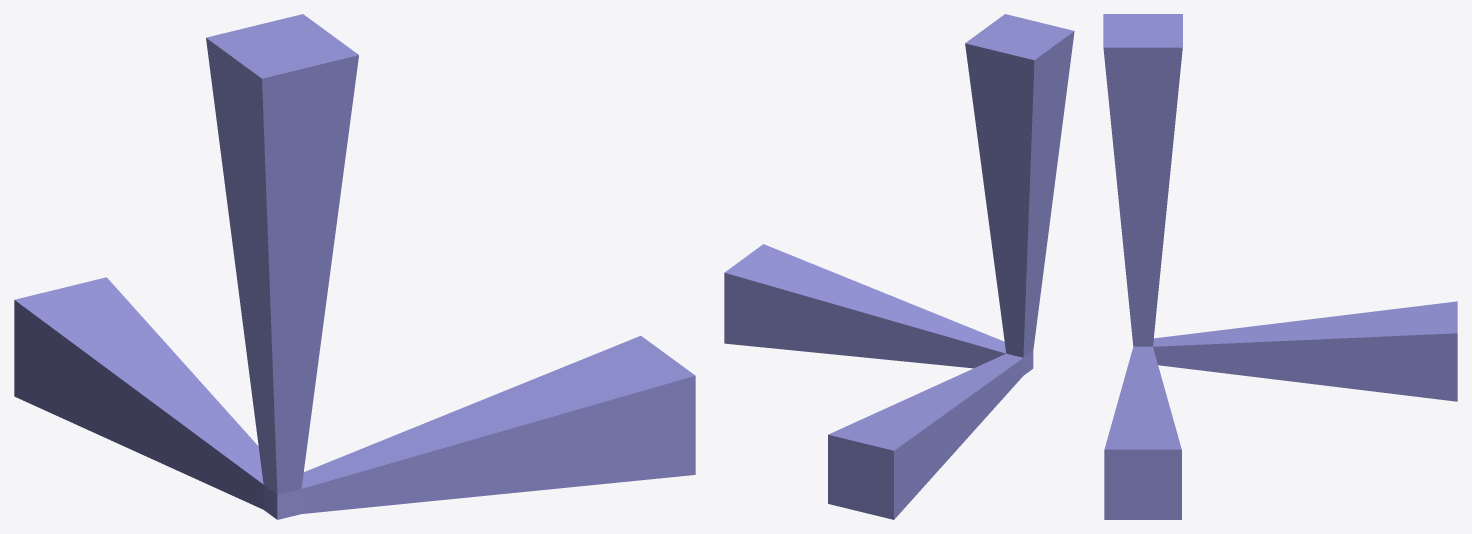
File: xyzOBJ.obj
3 renders of one model, left to right at view 1: azimuth 30°, elevation 25°; view 2: azimuth 150°, elevation 25°; view 3: azimuth 270°, elevation 25°, orthographic. The views are drawn at different scales.
Visible parts, largest first — view 1: Box001; view 2: Box001; view 3: Box001.
Part boxes in pixels (left/top/right/bottom): Box001: left=14, top=14, right=695, bottom=519; Box001: left=724, top=14, right=1074, bottom=519; Box001: left=1103, top=14, right=1457, bottom=519.
Size of the model in its own units: 90.3 by 99.85 by 90.05.
